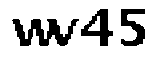4: (79, 6, 116, 52)
5: (119, 6, 150, 51)
v: (51, 17, 77, 48)
w: (9, 13, 53, 48)
